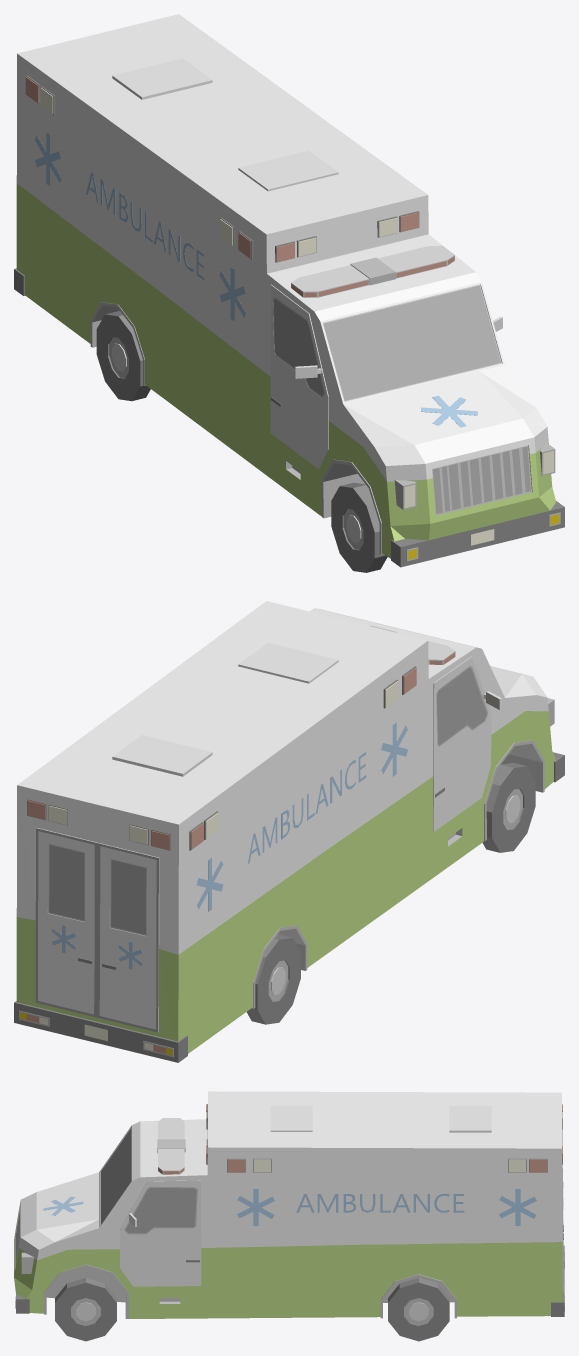
The model's file is Ambulance_2.fbx.
3 views of the same model, one above another, from view 1: azimuth 30°, elevation 25°; view 2: azimuth 150°, elevation 25°; view 3: azimuth 270°, elevation 25° (orthographic). The views are drawn at different scales.
Visible parts, largest first — view 1: ty_1, Cylinder_2_3, Cylinder_2_1; view 2: ty_1, Cylinder_2_3, Cylinder_2_1; view 3: ty_1, Cylinder_2_2, Cylinder_2.
Boxes of the visible parts, box(x1,y1,x2,y2) form: ty_1: box(14, 14, 564, 567); Cylinder_2_3: box(331, 482, 387, 572); Cylinder_2_1: box(96, 311, 150, 401); ty_1: box(14, 601, 564, 1062); Cylinder_2_3: box(482, 762, 535, 852); Cylinder_2_1: box(246, 934, 300, 1024); ty_1: box(14, 1091, 564, 1318); Cylinder_2_2: box(55, 1278, 116, 1341); Cylinder_2: box(388, 1278, 449, 1341).
Size of the model in its own units: 89.23 by 113 by 290.
